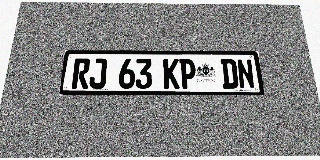3: (135, 59, 152, 89)
6: (118, 59, 136, 89)
D: (220, 59, 239, 89)
J: (89, 58, 107, 89)
K: (163, 59, 180, 89)
N: (236, 59, 255, 89)
P: (179, 59, 196, 89)
R: (71, 58, 91, 89)
